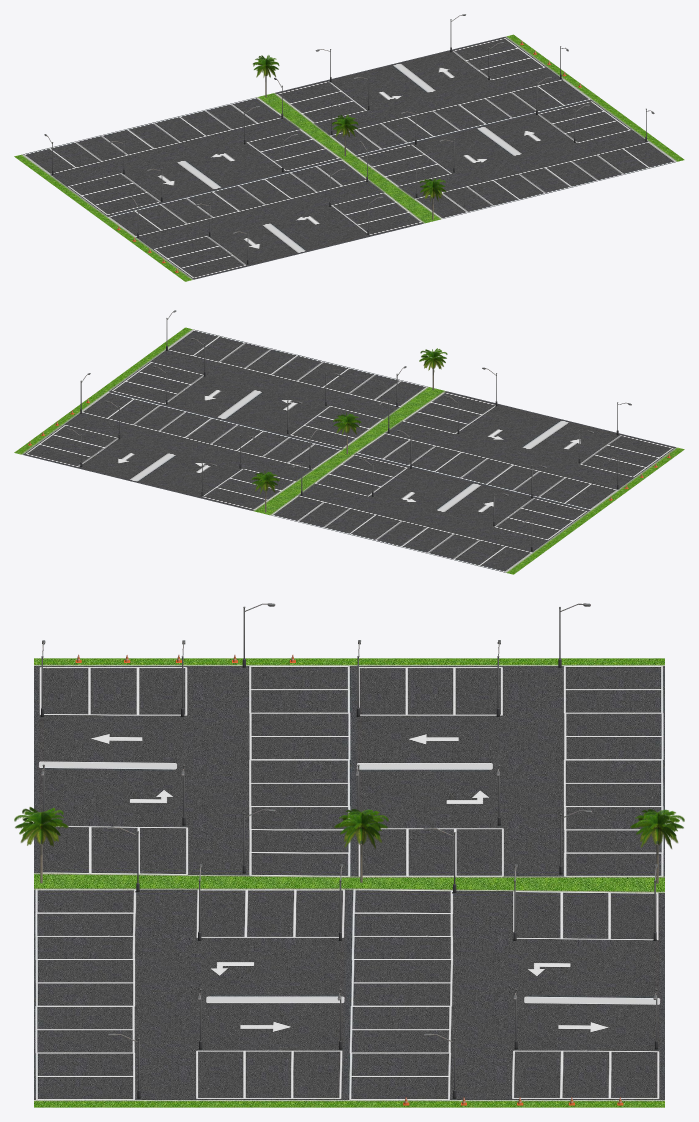
Rendered from parking.glb.
3 views of the same model, one above another, from view 1: azimuth 30°, elevation 25°; view 2: azimuth 150°, elevation 25°; view 3: azimuth 270°, elevation 25° (orthographic). The views are drawn at different scales.
Visible parts, largest first — view 1: Parking Area_Parking_Area_Tex_0_Parking_Area_Tex_0, Parking Area_Props_Atlas_0_Props_Atlas_0, Vegetation_Vegetation_Atlas_0_Vegetation_Atlas_0; view 2: Parking Area_Parking_Area_Tex_0_Parking_Area_Tex_0, Parking Area_Props_Atlas_0_Props_Atlas_0, Vegetation_Vegetation_Atlas_0_Vegetation_Atlas_0; view 3: Parking Area_Parking_Area_Tex_0_Parking_Area_Tex_0, Parking Area_Props_Atlas_0_Props_Atlas_0, Vegetation_Vegetation_Atlas_0_Vegetation_Atlas_0.
Boxes of the visible parts, x1,y1,x2,y2 form: Parking Area_Parking_Area_Tex_0_Parking_Area_Tex_0: (14,34,684,281); Parking Area_Props_Atlas_0_Props_Atlas_0: (44,14,654,272); Vegetation_Vegetation_Atlas_0_Vegetation_Atlas_0: (253,55,446,219); Parking Area_Parking_Area_Tex_0_Parking_Area_Tex_0: (14,327,684,574); Parking Area_Props_Atlas_0_Props_Atlas_0: (28,310,670,551); Vegetation_Vegetation_Atlas_0_Vegetation_Atlas_0: (251,348,447,512); Parking Area_Parking_Area_Tex_0_Parking_Area_Tex_0: (34,658,664,1107); Parking Area_Props_Atlas_0_Props_Atlas_0: (40,603,659,1105); Vegetation_Vegetation_Atlas_0_Vegetation_Atlas_0: (14,807,684,883).
Bounding box in the file's own units: 0.9782 × 0.0739 × 0.6174.
Materials: 3 (3 with a texture image).
